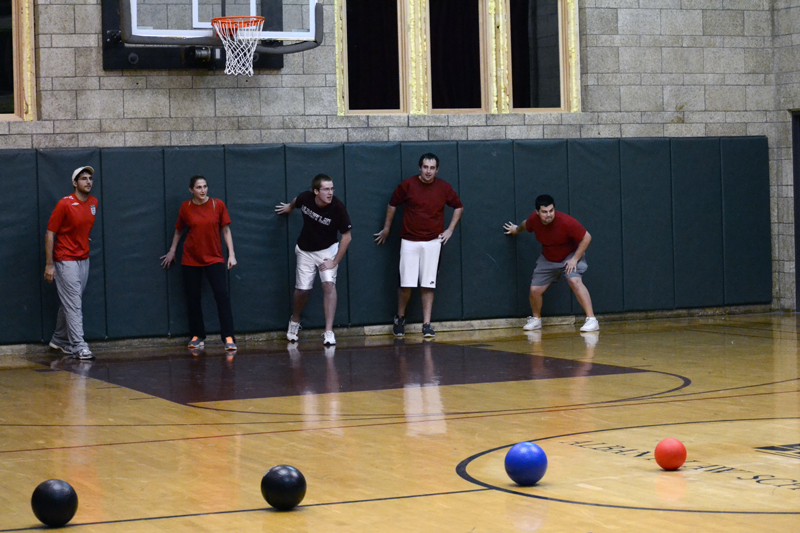blue ball: (504, 439, 548, 489)
red ball: (651, 437, 687, 472)
